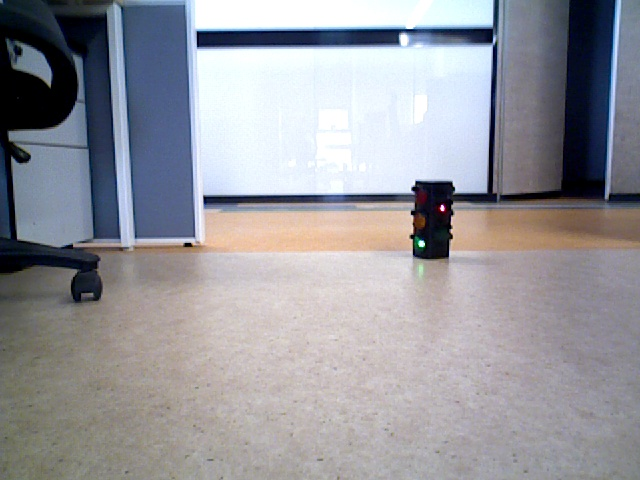green: (412, 183, 446, 254)
